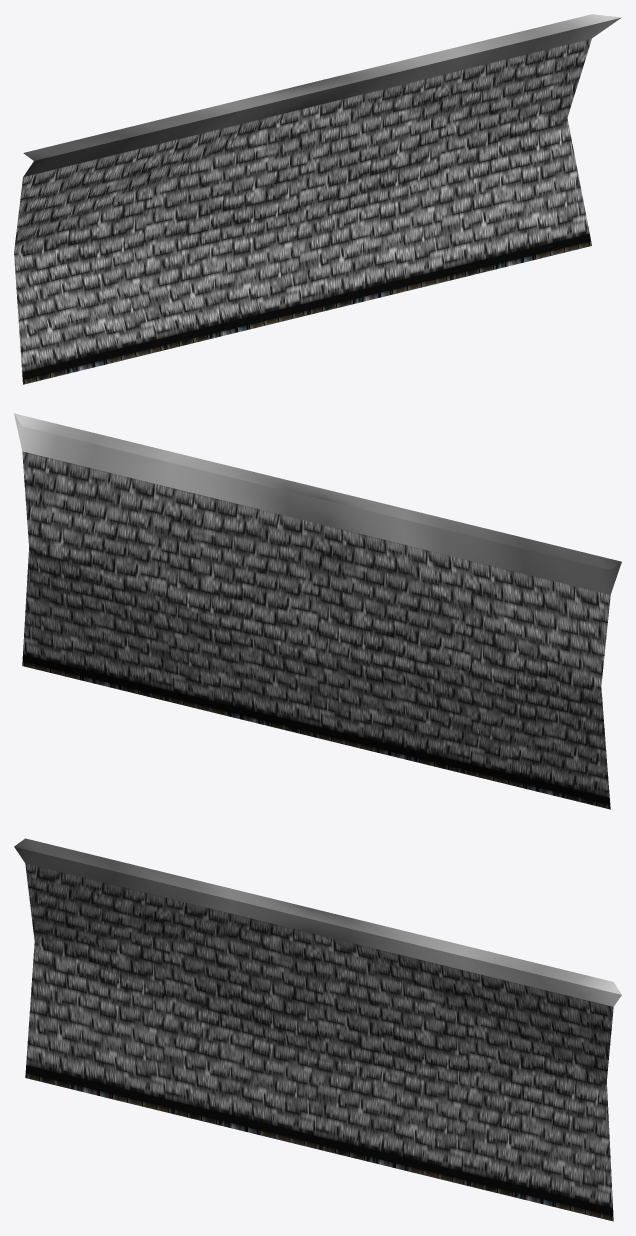
The model's file is W_A2r_xxxx [GraueZiegel]_872.glb.
The picture shows the model from 3 angles, top to bottom: view 1: azimuth 30°, elevation 25°; view 2: azimuth 150°, elevation 25°; view 3: azimuth 330°, elevation 25°; orthographic projection. The views are drawn at different scales.
Parts seen in each view (by area): view 1: polySurfaceShape787, polySurfaceShape1065; view 2: polySurfaceShape787, polySurfaceShape1065; view 3: polySurfaceShape787, polySurfaceShape1065.
Boxes of the visible parts, left/top/right/bottom form: polySurfaceShape787: left=14, top=38, right=591, bottom=384; polySurfaceShape1065: left=23, top=14, right=621, bottom=176; polySurfaceShape787: left=22, top=451, right=610, bottom=809; polySurfaceShape1065: left=14, top=413, right=621, bottom=594; polySurfaceShape787: left=25, top=863, right=613, bottom=1221; polySurfaceShape1065: left=14, top=838, right=621, bottom=1006.
Bounding box in the file's own units: 1.03 × 0.3891 × 0.0607.
2 materials, 2 textured.
